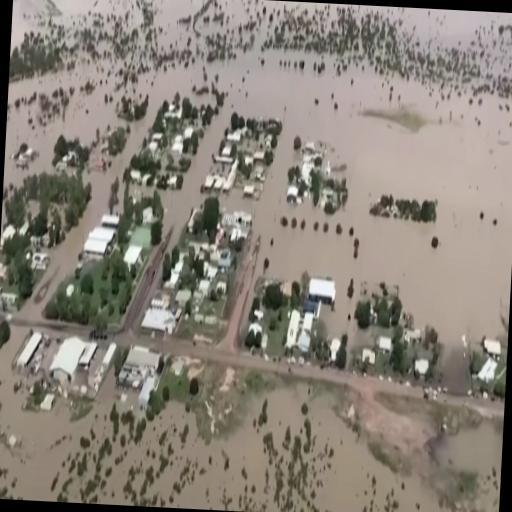flood: (3, 0, 512, 348), (0, 332, 503, 512)
house: (118, 341, 163, 414), (53, 333, 96, 399), (13, 328, 43, 378), (306, 274, 338, 308), (474, 350, 498, 394), (84, 225, 114, 258), (101, 210, 119, 234)
